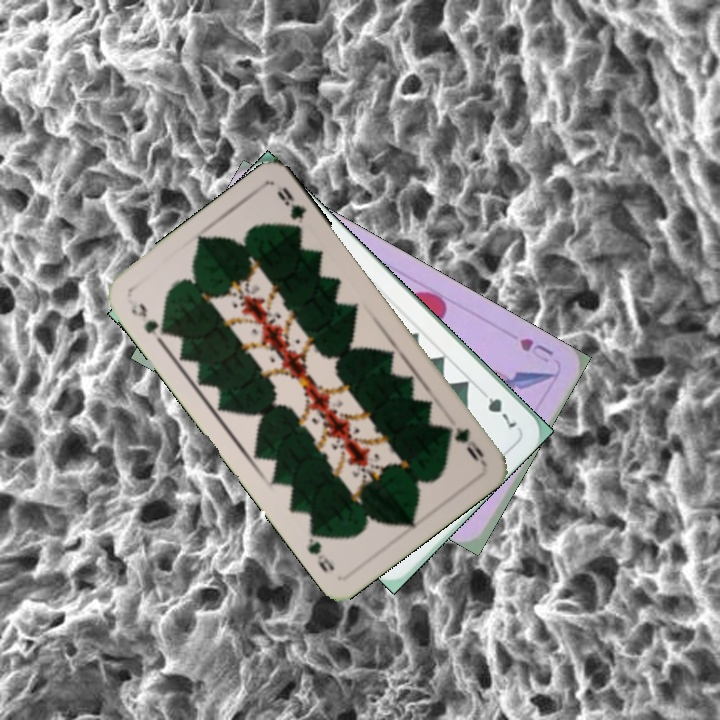G7: (475, 384, 520, 431)
G9: (123, 295, 171, 346), (441, 421, 487, 466)
HU: (516, 333, 557, 366)
